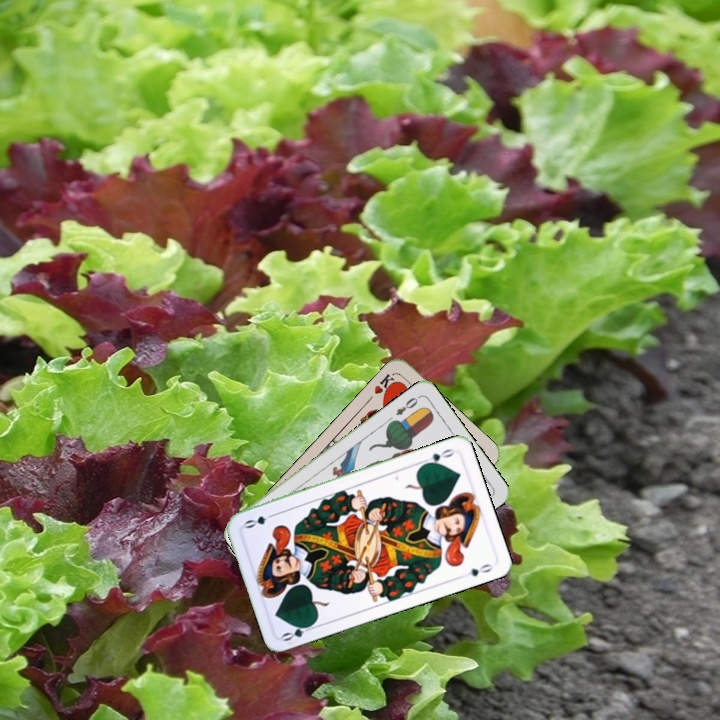EO: (391, 392, 423, 418)
GO: (278, 619, 318, 644), (417, 445, 457, 468)
HK: (370, 370, 400, 398)
